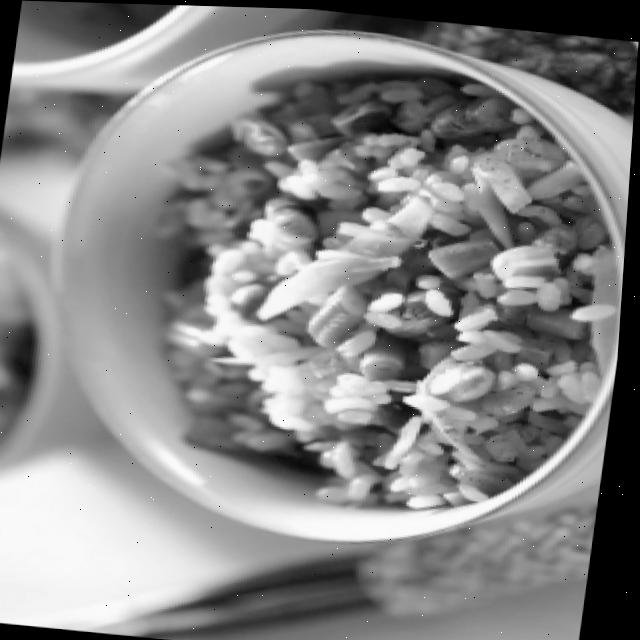米饭主食: (118, 44, 638, 505)
